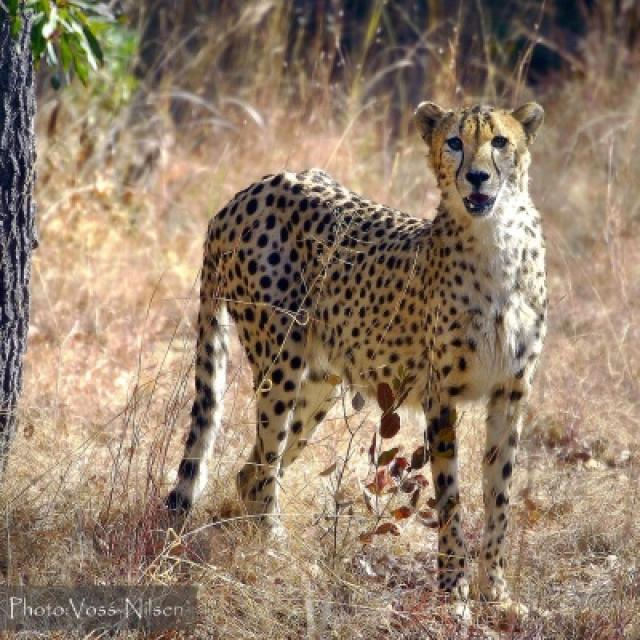Cheetah: (165, 102, 549, 594)
